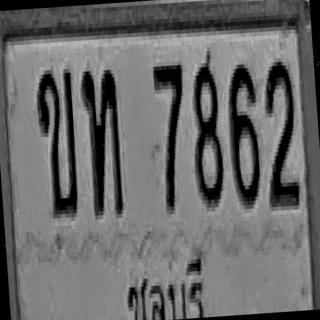A02: (34, 65, 80, 215)
A23: (79, 65, 124, 216)
N02: (260, 57, 300, 207)
N06: (224, 60, 263, 206)
N07: (151, 61, 192, 211)
N08: (187, 56, 225, 206)
P13: (122, 251, 208, 320)
